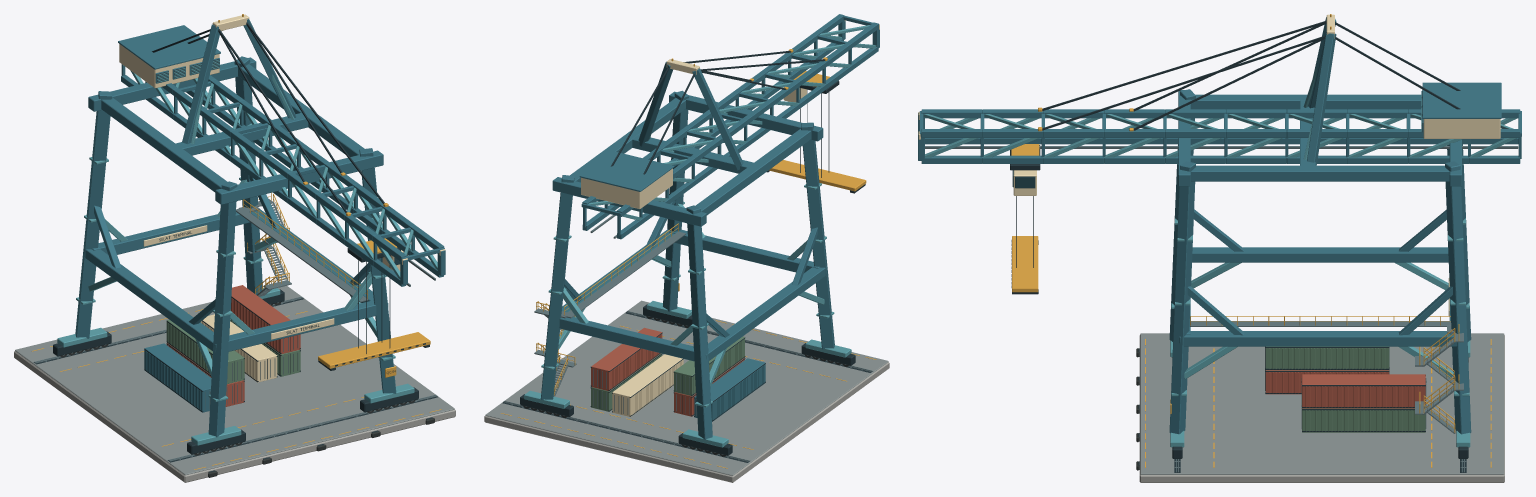
The picture shows the model from 3 angles, left to right: view 1: azimuth 30°, elevation 25°; view 2: azimuth 150°, elevation 25°; view 3: azimuth 270°, elevation 25°; orthographic projection. The views are drawn at different scales.
Visible parts, largest first — view 1: Quay Section, Portal Frames, Trolley Boom, Landside Containers, Machinery and Catwalks, Apex and Pendants, Gantry Bogies, Portal Braces, Trolley and Spreader, Portal Signage, Quay Markings; view 2: Quay Section, Portal Frames, Trolley Boom, Landside Containers, Machinery and Catwalks, Apex and Pendants, Gantry Bogies, Portal Braces, Trolley and Spreader, Quay Markings; view 3: Quay Section, Portal Frames, Trolley Boom, Landside Containers, Machinery and Catwalks, Apex and Pendants, Portal Braces, Trolley and Spreader, Gantry Bogies.
Boxes of the visible parts, x1,y1,x2,y2 form: Quay Section: [14, 285, 455, 482]; Portal Frames: [75, 56, 396, 437]; Trolley Boom: [121, 64, 445, 286]; Landside Containers: [144, 285, 300, 412]; Machinery and Catwalks: [118, 25, 368, 302]; Apex and Pendants: [152, 14, 388, 216]; Gantry Bogies: [53, 287, 418, 455]; Portal Braces: [88, 175, 377, 376]; Trolley and Spreader: [318, 238, 430, 370]; Portal Signage: [143, 225, 396, 377]; Quay Markings: [32, 309, 441, 469]; Quay Section: [484, 300, 889, 482]; Portal Frames: [540, 90, 834, 439]; Trolley Boom: [581, 14, 879, 239]; Landside Containers: [590, 327, 765, 421]; Machinery and Catwalks: [534, 151, 685, 396]; Apex and Pendants: [611, 49, 827, 174]; Gantry Bogies: [520, 301, 855, 456]; Portal Braces: [558, 192, 824, 387]; Trolley and Spreader: [767, 71, 866, 193]; Quay Markings: [501, 320, 876, 468]; Quay Section: [1136, 333, 1504, 482]; Portal Frames: [1169, 89, 1471, 434]; Trolley Boom: [918, 109, 1521, 163]; Landside Containers: [1265, 346, 1426, 432]; Machinery and Catwalks: [1190, 82, 1501, 433]; Apex and Pendants: [1038, 14, 1460, 165]; Portal Braces: [1184, 209, 1453, 379]; Trolley and Spreader: [1010, 144, 1040, 294]; Gantry Bogies: [1170, 340, 1470, 458].
Size of the model in its own units: 33 by 42.64 by 59.52.
